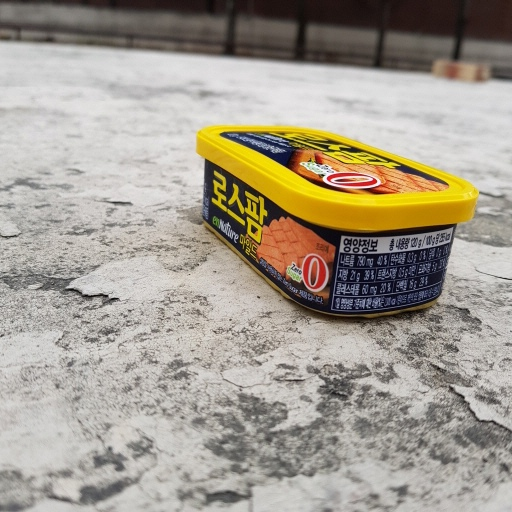Metal_2: (195, 118, 477, 322)
